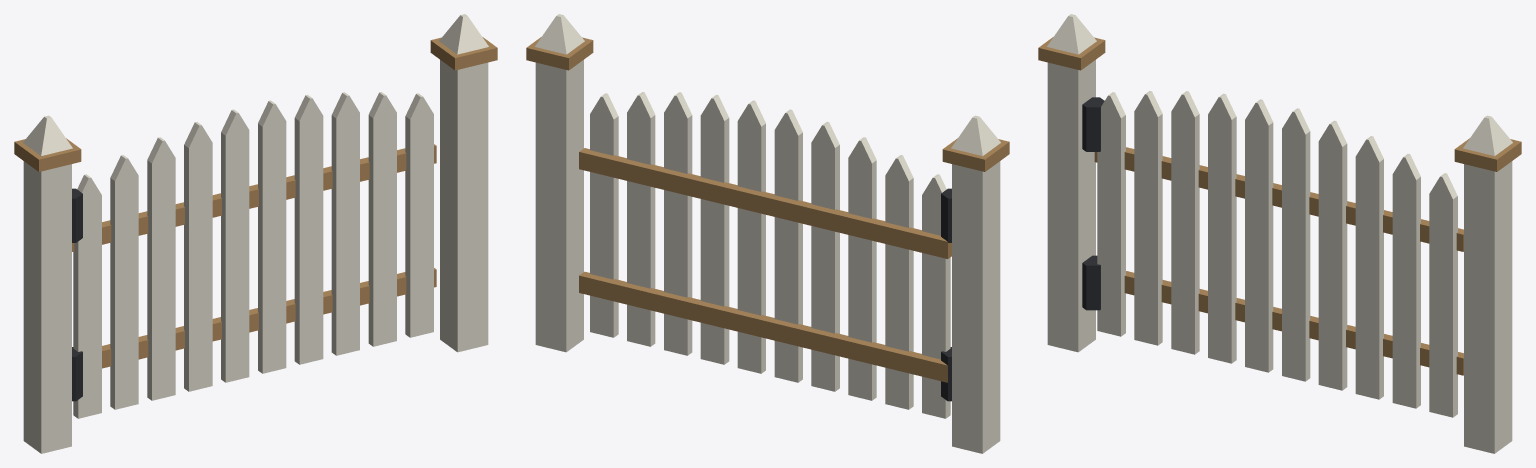
File: picket_gate.glb
3 views of the same model, side by side, from view 1: azimuth 30°, elevation 25°; view 2: azimuth 150°, elevation 25°; view 3: azimuth 330°, elevation 25° (orthographic).
Visible parts, largest first — view 1: fence_picket_gate; view 2: fence_picket_gate; view 3: fence_picket_gate.
Boxes of the visible parts, x1,y1,x2,y2 form: fence_picket_gate: [14, 14, 497, 453]; fence_picket_gate: [526, 14, 1009, 453]; fence_picket_gate: [1038, 14, 1521, 453].
Size of the model in its own units: 1.94 by 1.32 by 0.18.
